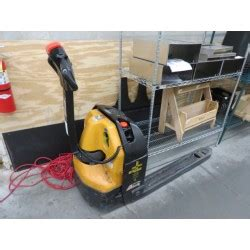Pallet Jack: (45, 40, 214, 207)
